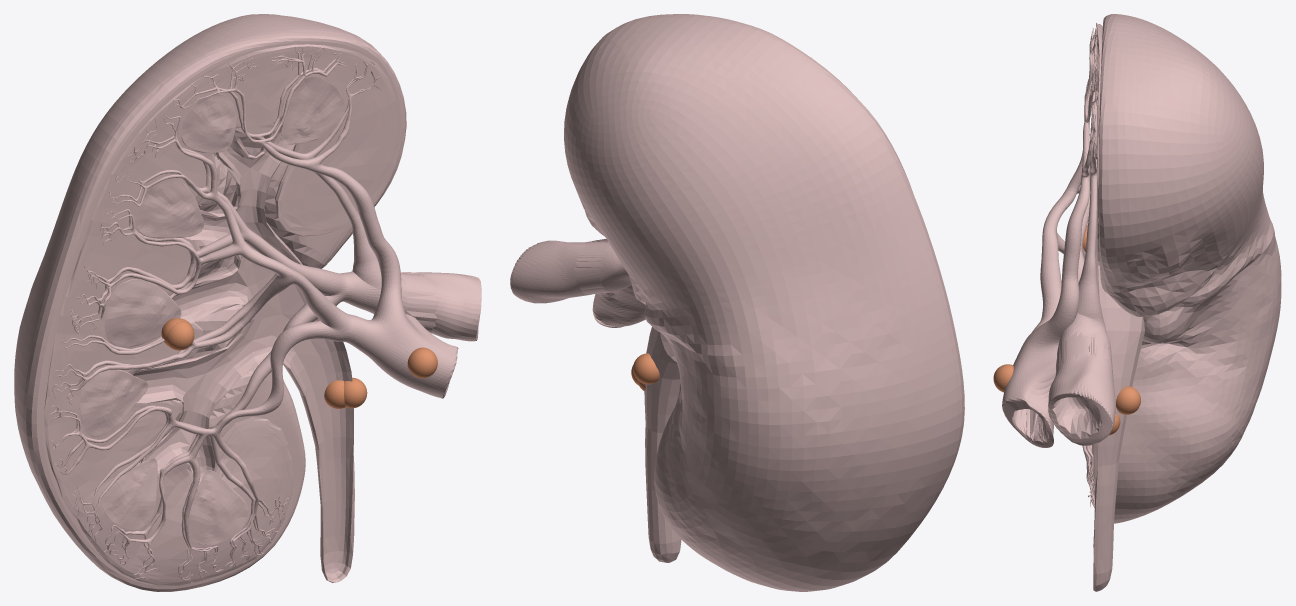
Rendered from kidney_43f0158f.glb.
The picture shows the model from 3 angles, left to right: view 1: azimuth 30°, elevation 25°; view 2: azimuth 150°, elevation 25°; view 3: azimuth 270°, elevation 25°; orthographic projection. The views are drawn at different scales.
Parts seen in each view (by area): view 1: world; view 2: world; view 3: world.
Part boxes in pixels (left/top/right/bottom): world: left=14, top=14, right=481, bottom=591; world: left=510, top=14, right=964, bottom=591; world: left=993, top=14, right=1281, bottom=591.
Bounding box in the file's own units: 8.47 × 10.1 × 5.03.
